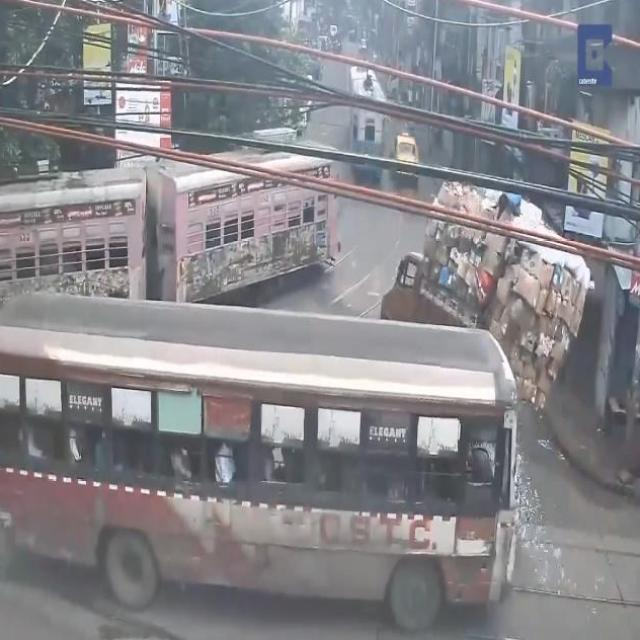accident: (372, 129, 576, 431)
